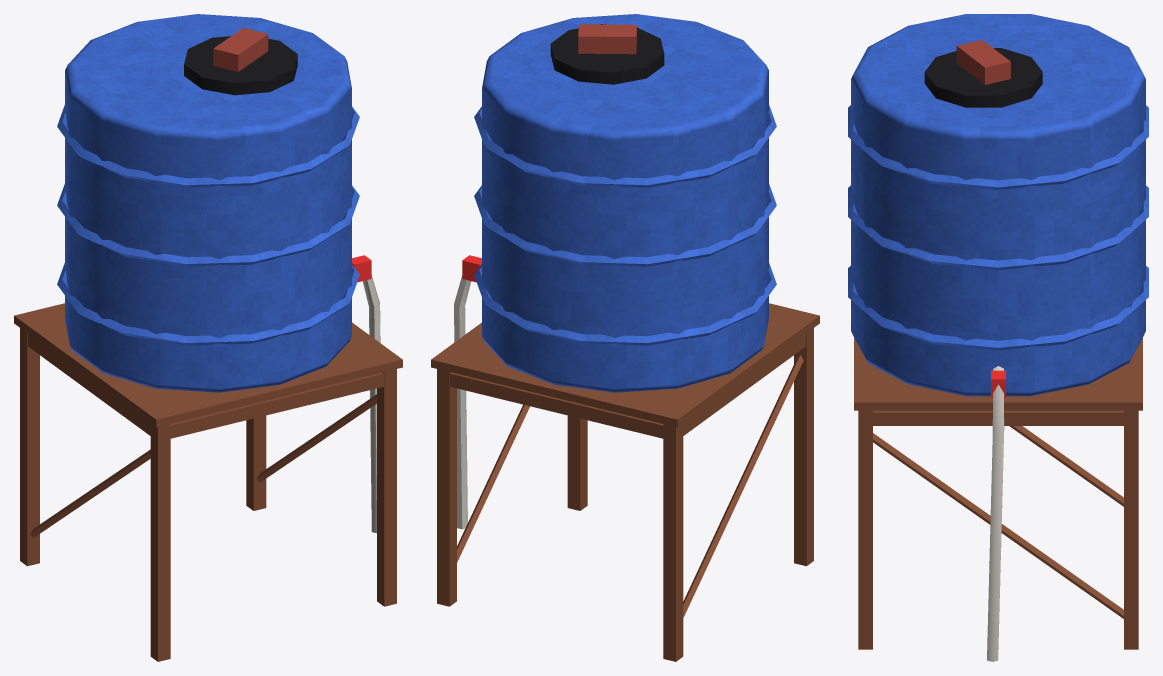
The model's file is s_cube_roofjunk_a.glb.
3 renders of one model, left to right at view 1: azimuth 30°, elevation 25°; view 2: azimuth 150°, elevation 25°; view 3: azimuth 270°, elevation 25°, orthographic.
Visible parts, largest first — view 1: s_cube_roofjunk_a_mesh; view 2: s_cube_roofjunk_a_mesh; view 3: s_cube_roofjunk_a_mesh.
Boxes of the visible parts, <box> form: s_cube_roofjunk_a_mesh: <box>14,14,402,661</box>; s_cube_roofjunk_a_mesh: <box>431,14,819,661</box>; s_cube_roofjunk_a_mesh: <box>848,14,1148,661</box>.
Size of what is drawn, in the model's own units: 1.2 by 2.05 by 1.02.
Materials: 1 (1 with a texture image).
